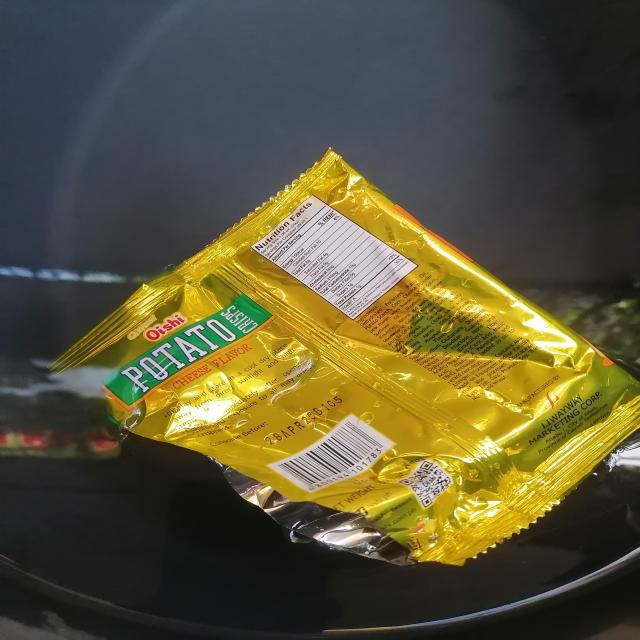Plastic Wrapper: (49, 150, 640, 565)
